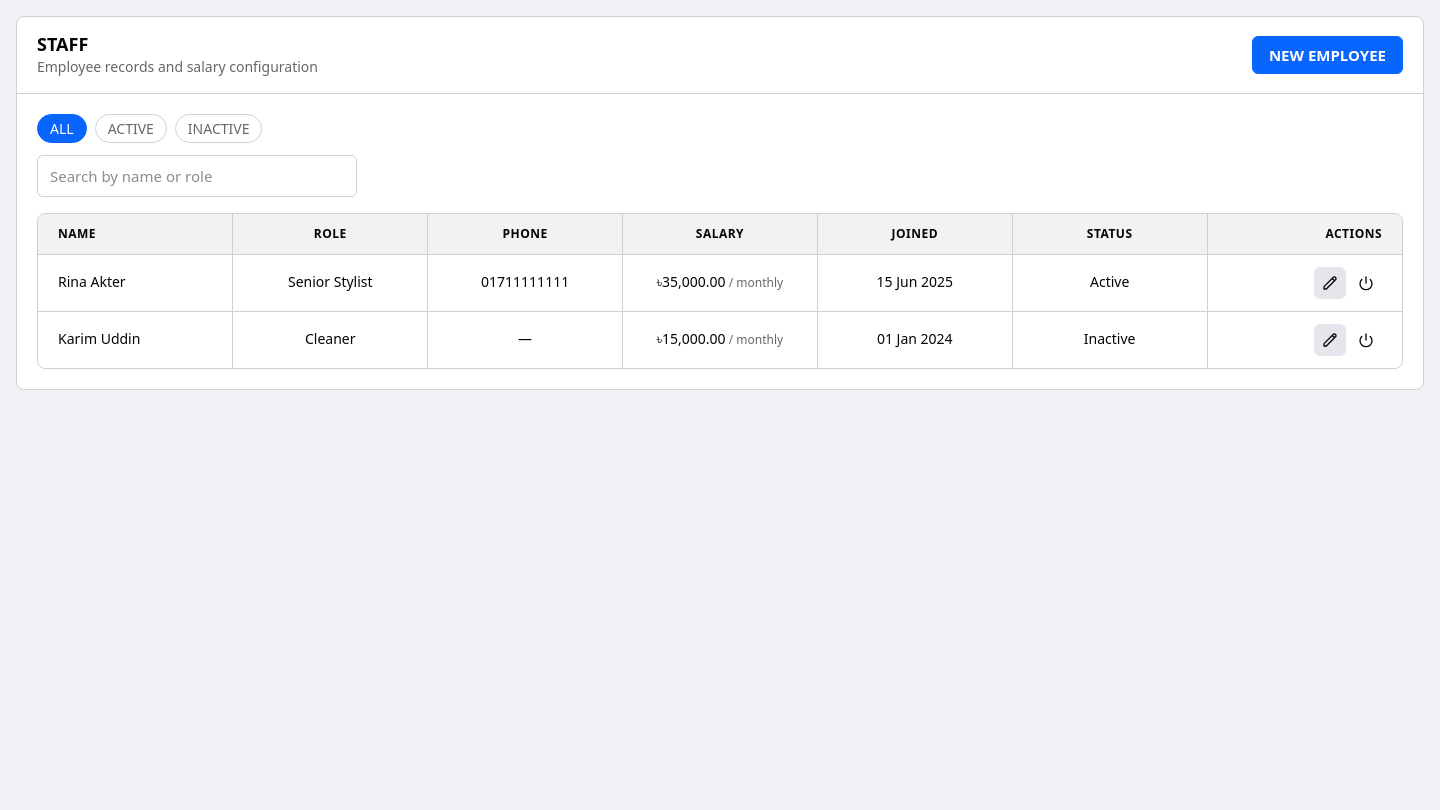
Test: StaffPage › opens the create modal
Check: the text "Rina Akter" is shown, box left=58, top=272, right=126, bottom=291
Click the button "New employee".
click(1327, 55)  # box left=1252, top=36, right=1403, bottom=74
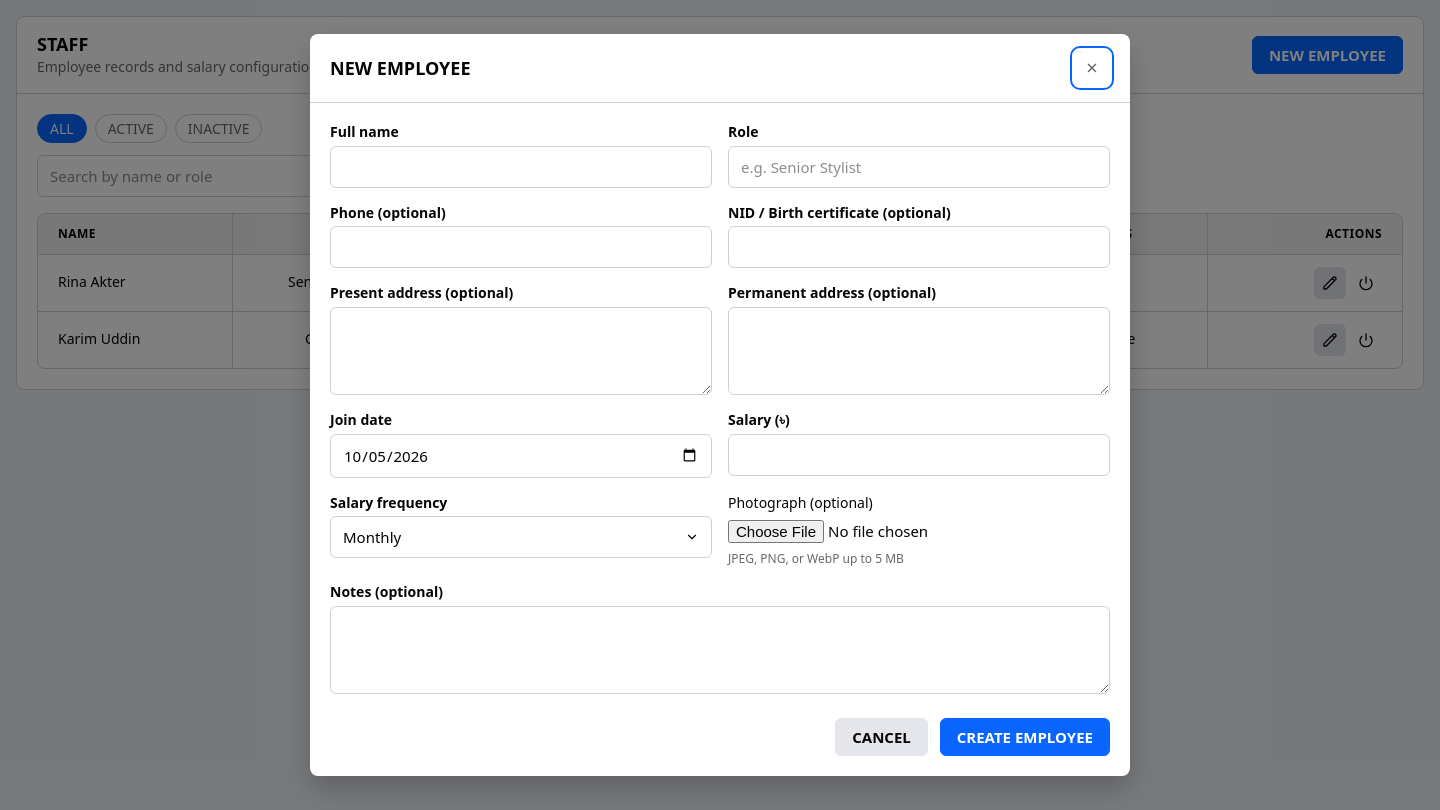
Check: the dialog is shown, box left=310, top=34, right=1130, bottom=776
Check: the field labelled "Full name" is shown, box left=330, top=146, right=712, bottom=188
